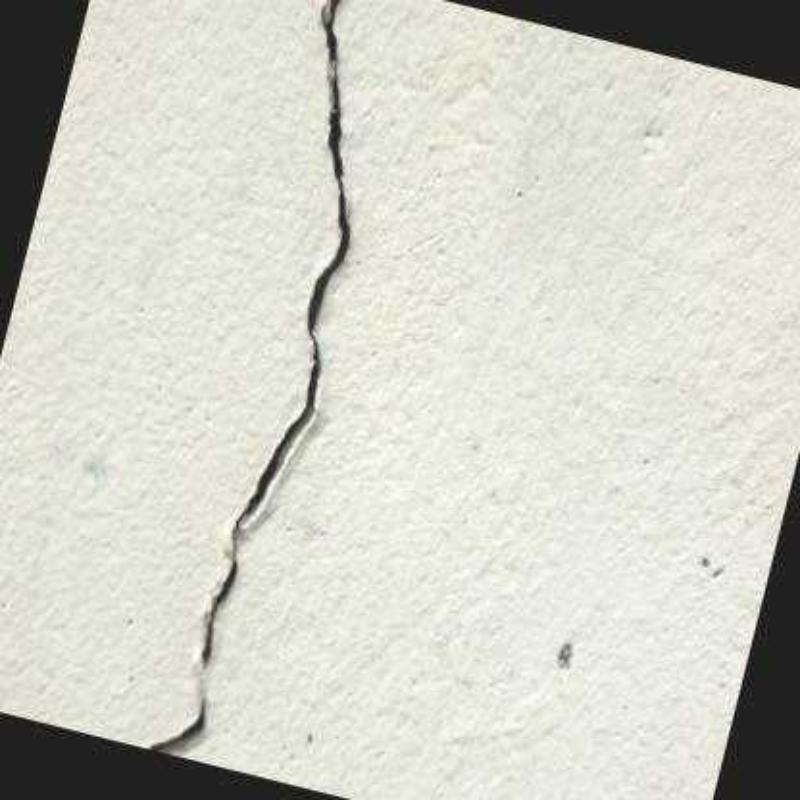crack: (135, 0, 361, 758)
